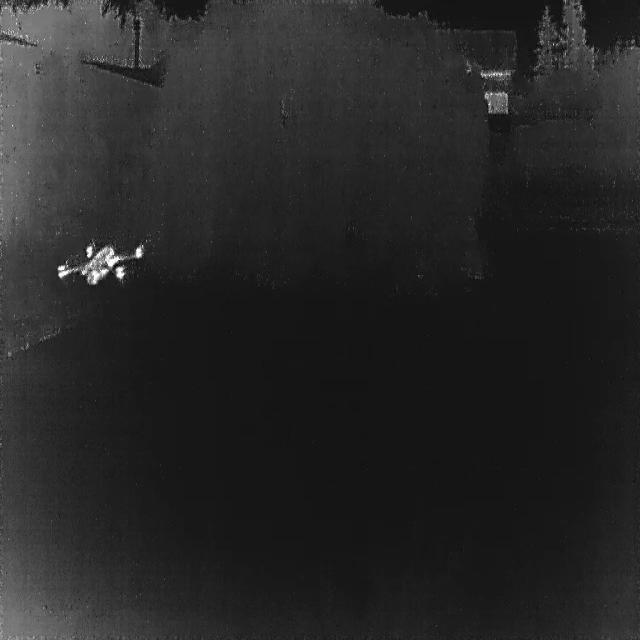drone: (56, 240, 146, 290)
